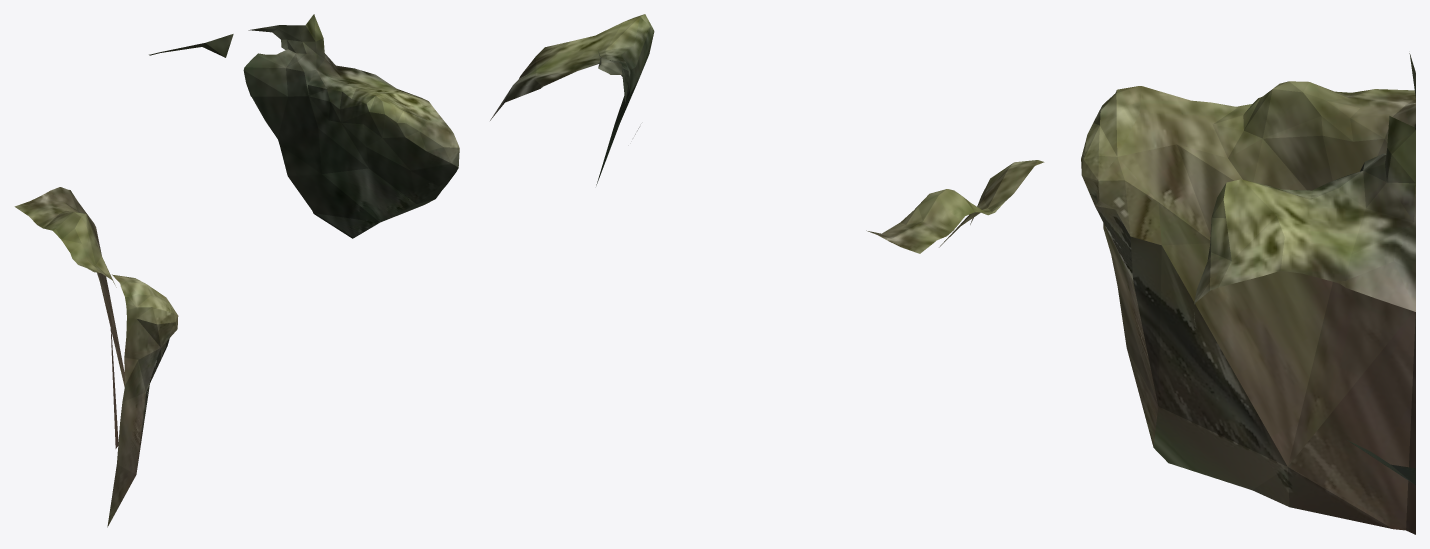
3 renders of one model, left to right at view 1: azimuth 30°, elevation 25°; view 2: azimuth 150°, elevation 25°; view 3: azimuth 270°, elevation 25°, orthographic. The views are drawn at different scales.
Bounding box in the file's own units: 2.95 × 2.95 × 1.65.
Materials: 2 (2 with a texture image).
